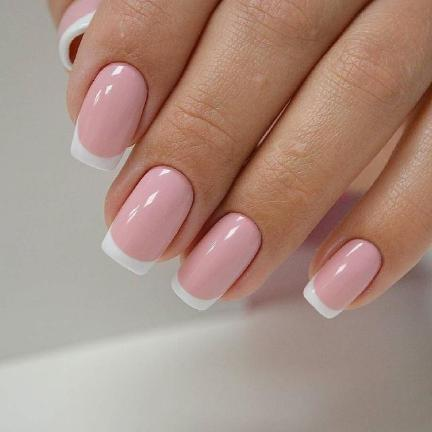Nail: (101, 165, 194, 275), (170, 212, 262, 311), (70, 62, 148, 172), (303, 238, 383, 319)
